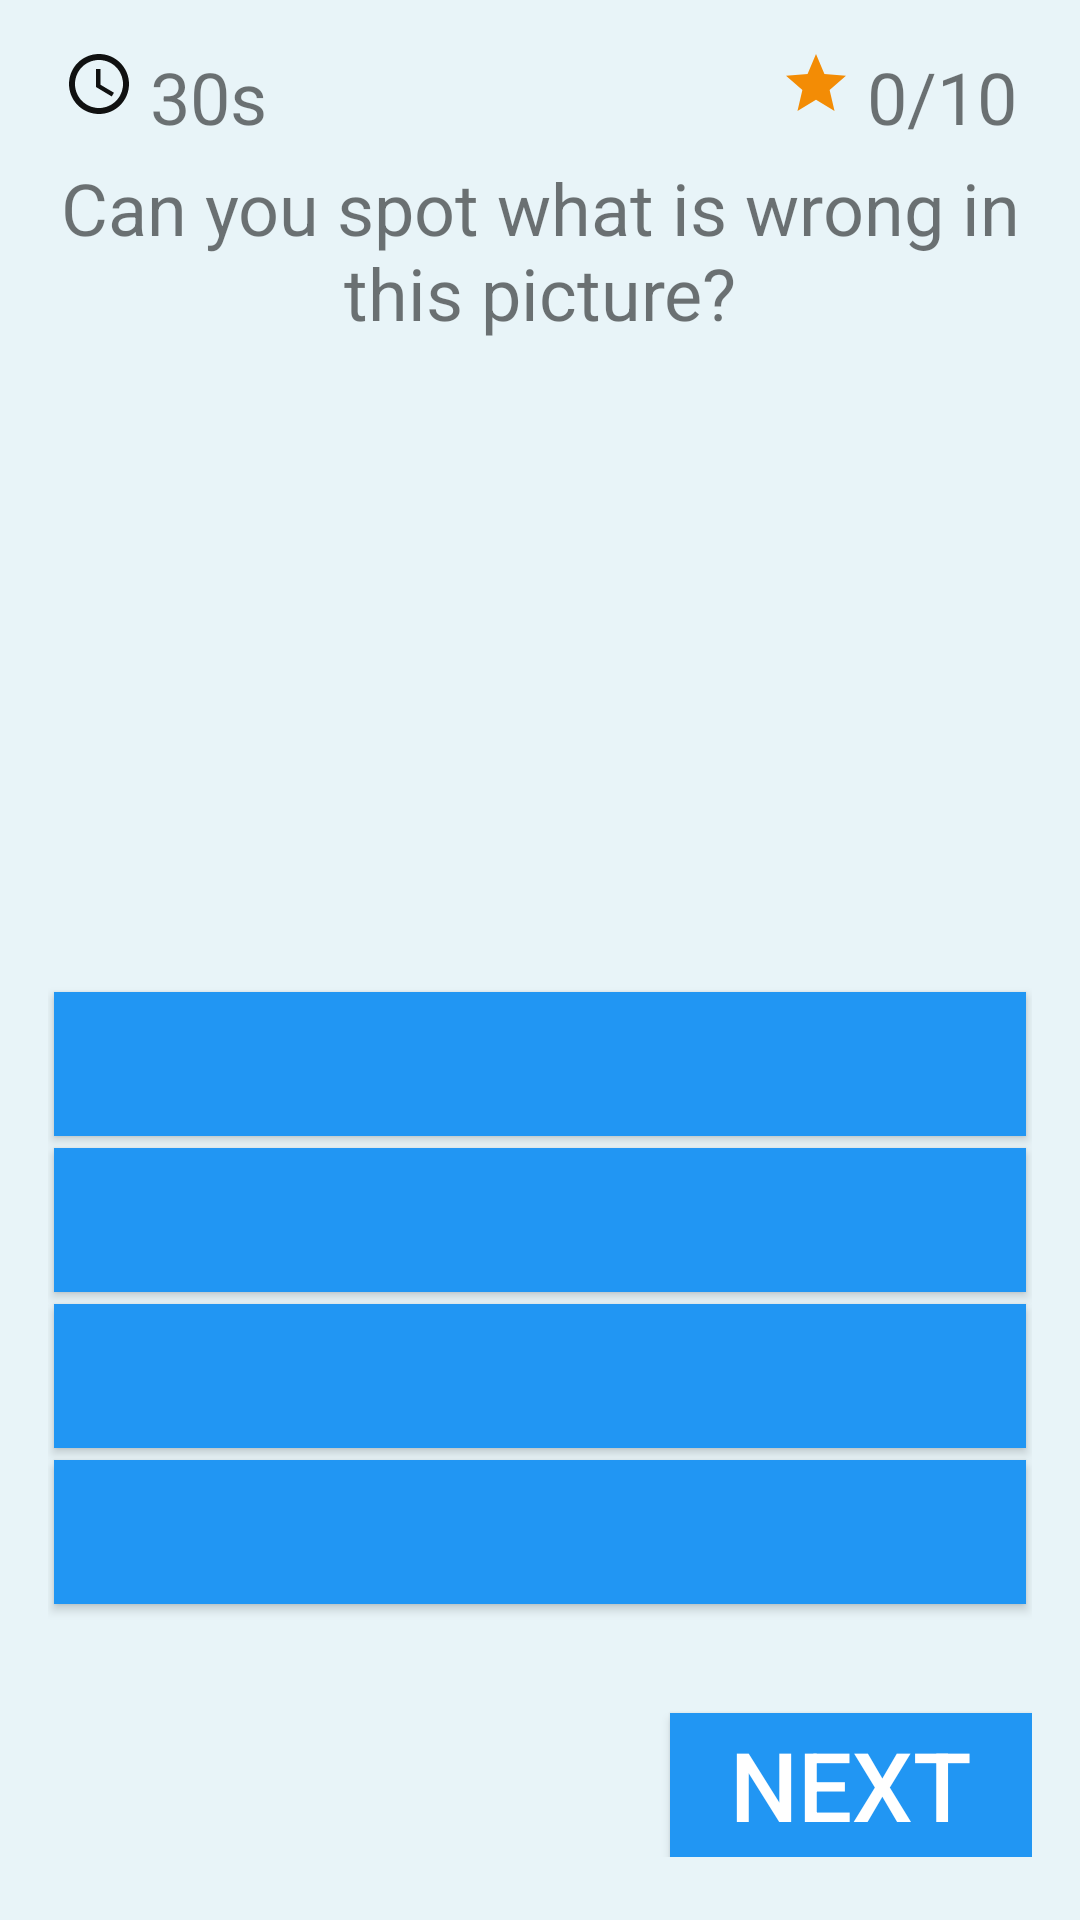

Icon bounding boxes for this 1080px x 1920px phone screenshot, format (x1, y1, x2, y2):
star: (786, 54, 846, 111)
timer: (69, 54, 129, 114)
